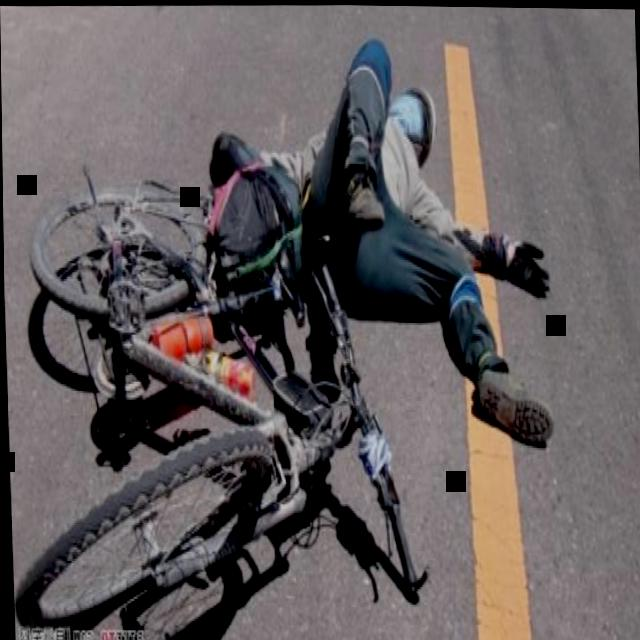Fall-Detected: (295, 46, 566, 466)
